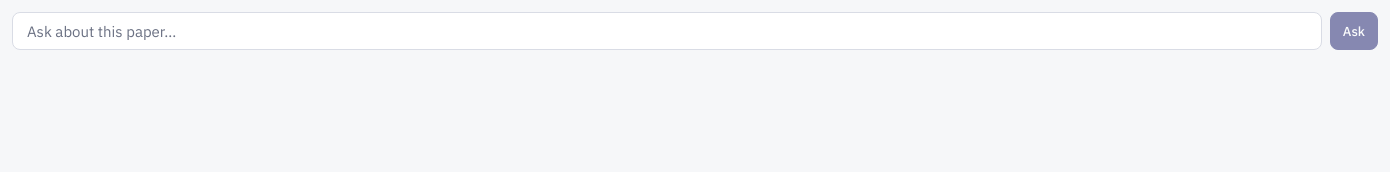
AskPanel › sends the trimmed question and shows the answer, passages and basis
Type "  Where are tokens stored?  " into the field named "Question about this paper" at (667, 31), box [12, 12, 1322, 50]
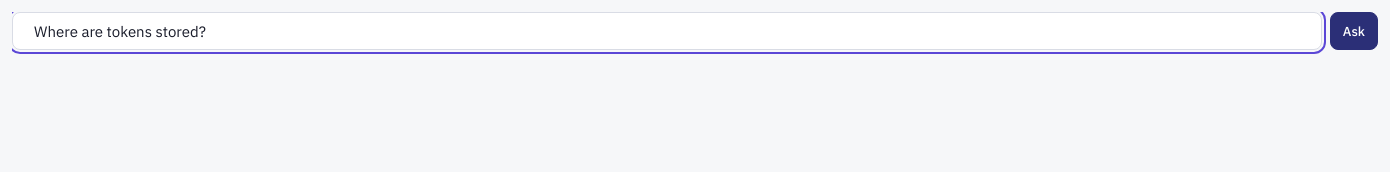
Click the button "Ask" at (1354, 31), box [1330, 12, 1378, 50]
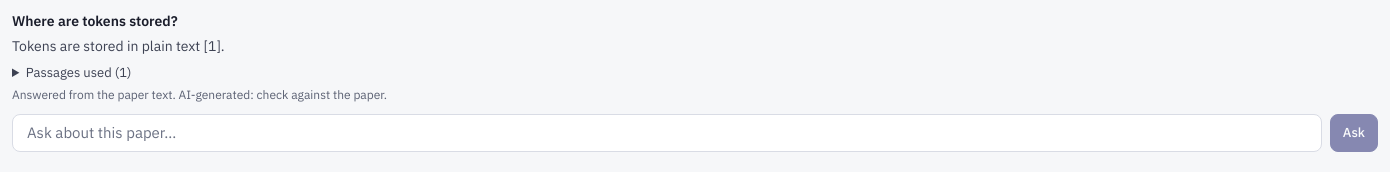
expect the text "Tokens are stored in plain text [1]." is shown: met, box [12, 37, 225, 55]
expect the text "Where are tokens stored?" is shown: met, box [12, 12, 178, 30]
expect the heading "Passages used (1)" is shown: met, box [26, 64, 131, 81]
